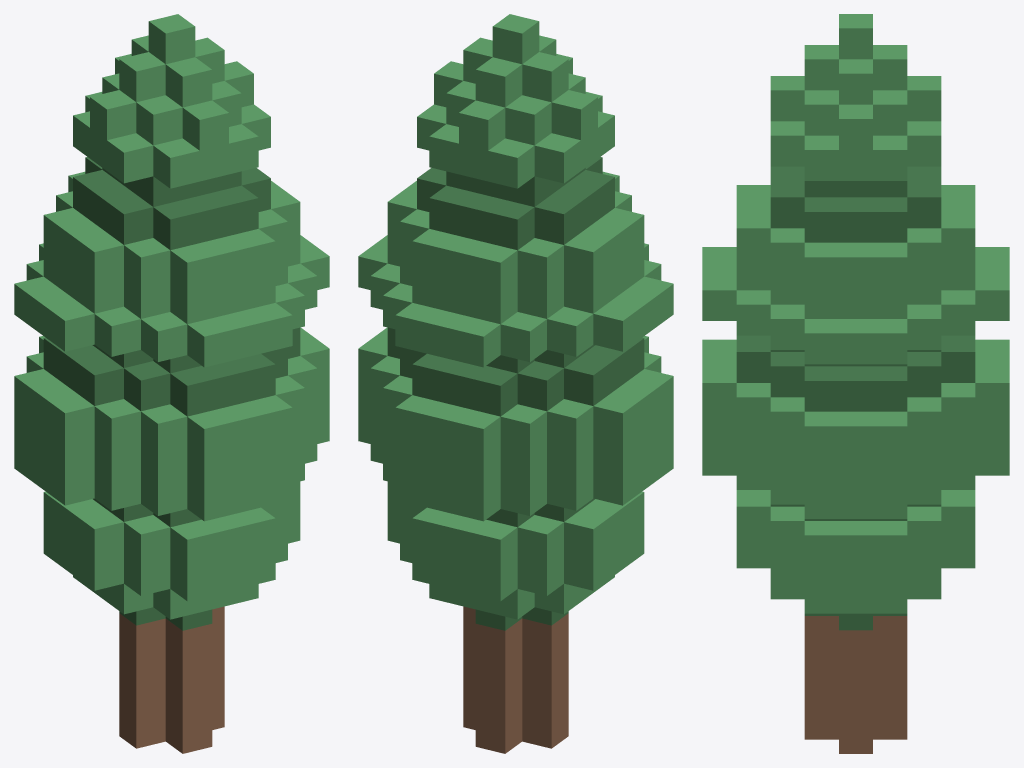
Rendered from Cubeland-2.obj.
3 views of the same model, side by side, from view 1: azimuth 30°, elevation 25°; view 2: azimuth 150°, elevation 25°; view 3: azimuth 270°, elevation 25° (orthographic).
Bounding box in the file's own units: 1.8 × 4.6 × 1.8.
Materials: 1 (1 with a texture image).
